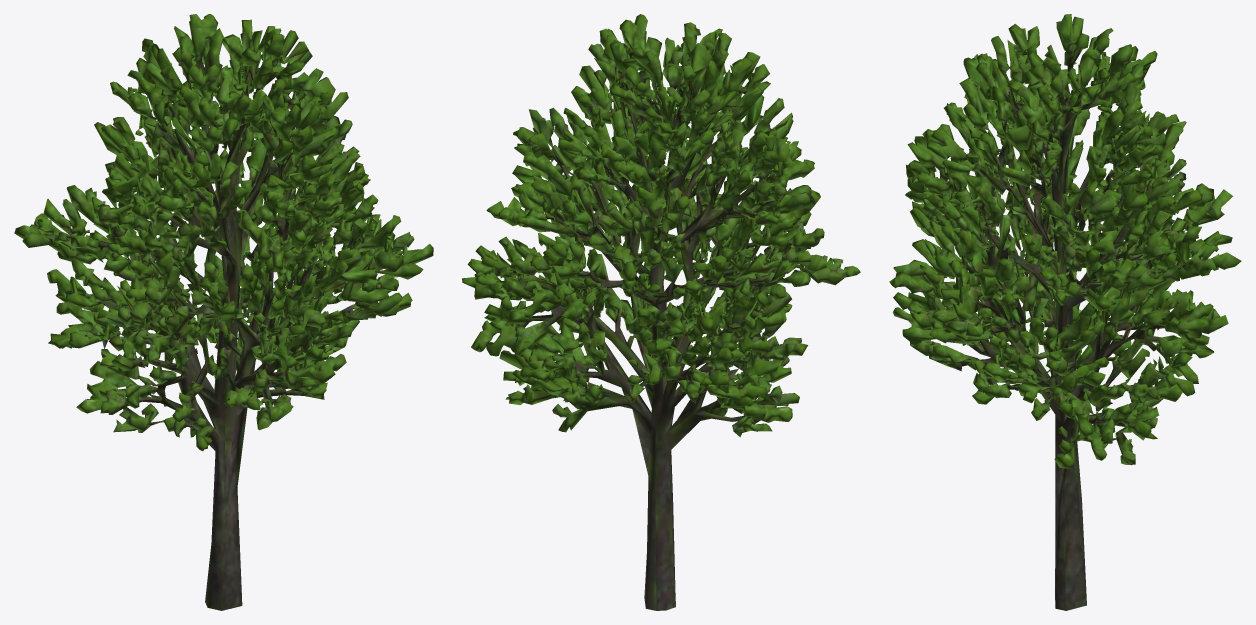
Rendered from tree_09_round_green.glb.
The picture shows the model from 3 angles, left to right: view 1: azimuth 30°, elevation 25°; view 2: azimuth 150°, elevation 25°; view 3: azimuth 270°, elevation 25°; orthographic projection.
Parts seen in each view (by area): view 1: geometry_0; view 2: geometry_0; view 3: geometry_0.
Part boxes in pixels (x1,y1,x2,y2): geometry_0: (14,14,433,610); geometry_0: (462,14,860,610); geometry_0: (889,14,1241,610).
Size of the model in its own units: 0.6505 by 1 by 0.5627.
1 material, 1 textured.
